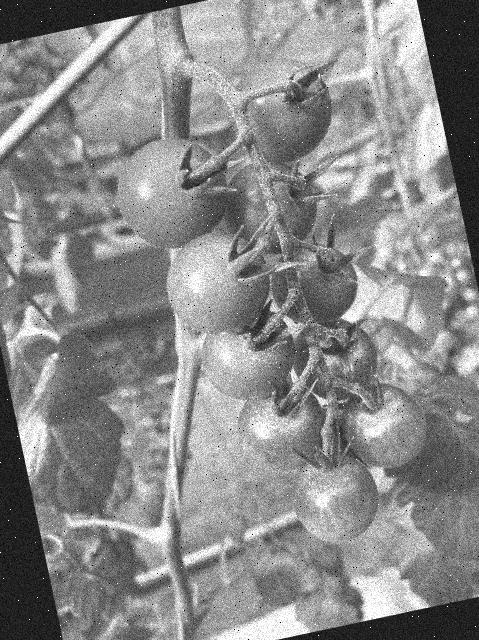l_fully_ripened: (106, 127, 240, 258), (219, 48, 343, 171)
l_green: (228, 373, 334, 479), (282, 443, 388, 549), (333, 372, 435, 476), (263, 233, 366, 333), (285, 311, 386, 409)
l_half_ripened: (156, 221, 281, 345), (215, 149, 326, 262), (194, 304, 305, 410)
